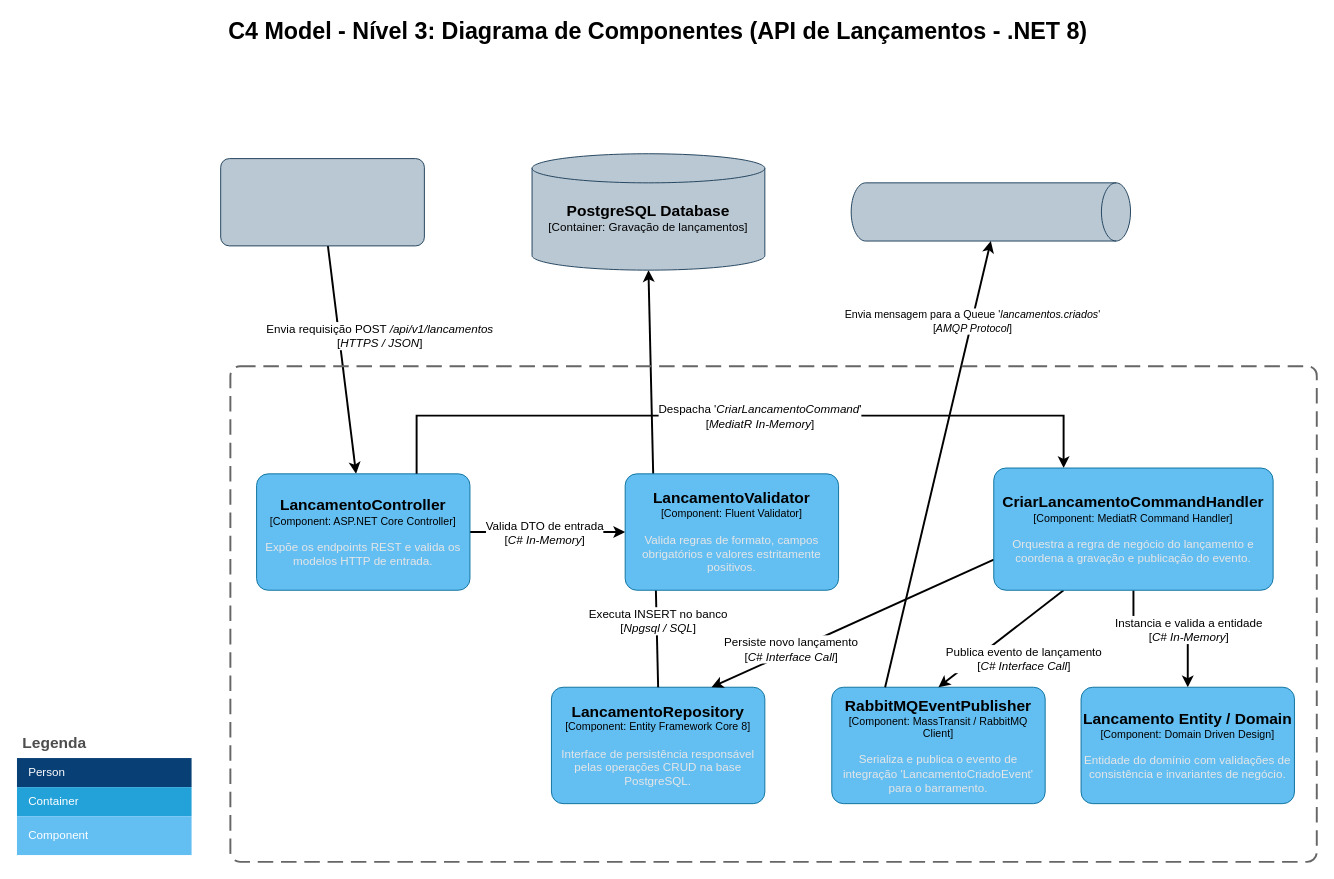
Image size: 1334x879. Some labels were removed from this diagram. Each missing label, with the box of its shape:
API de Lançamentos (.NET 8 Container) [CONTAINER]: (229, 365, 1317, 862)
API Gateway [Container: Ponto de entrada único HTTPS]: (220, 158, 424, 246)
RabbitMQ Broker [Container: Fila de eventos]: (850, 182, 1131, 241)
